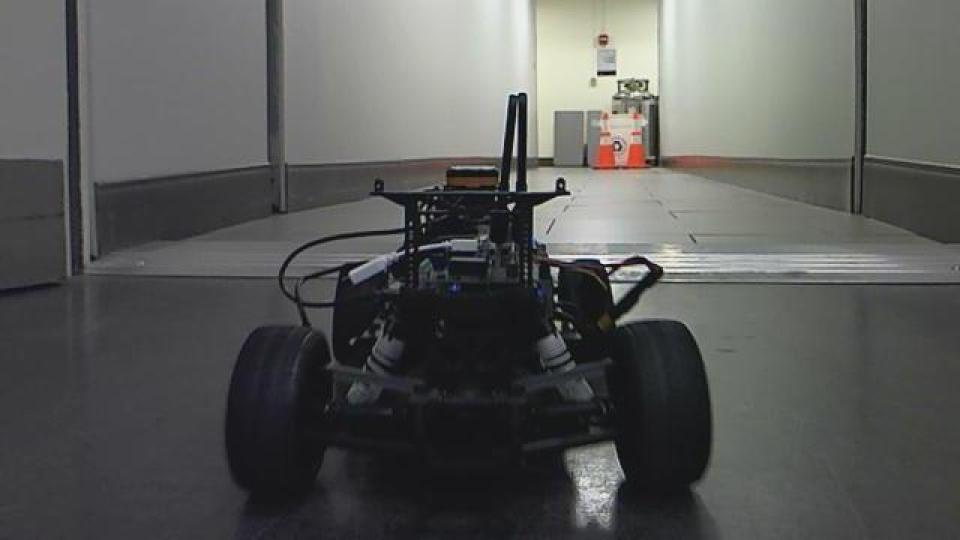car: (220, 90, 716, 501)
